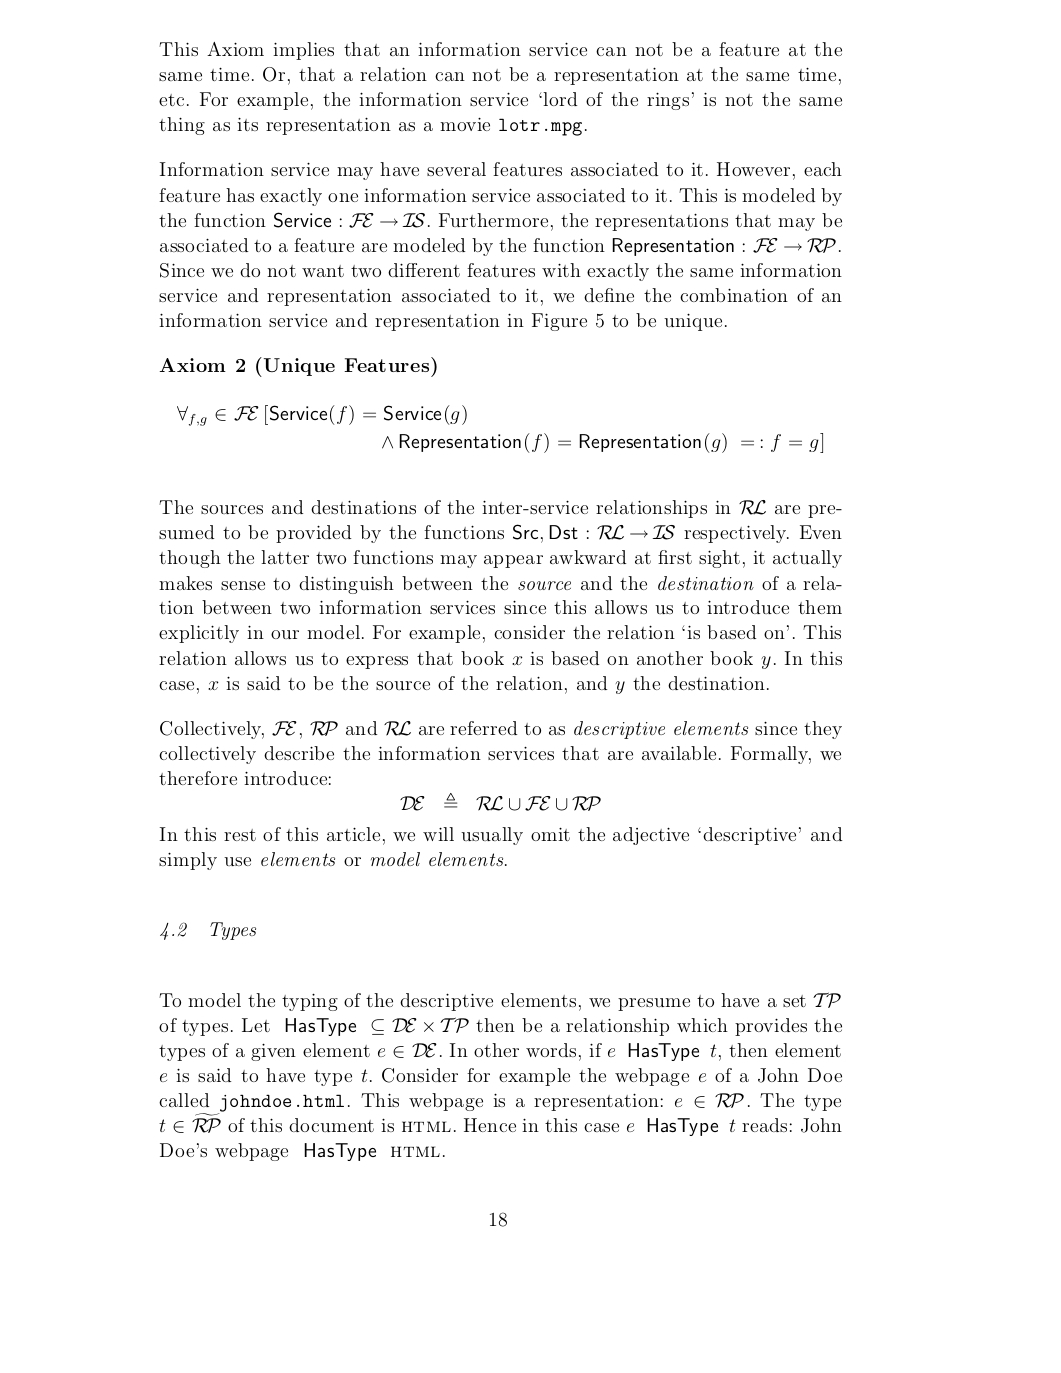formula: (382, 432, 822, 452), (177, 405, 466, 426), (400, 792, 600, 811)
